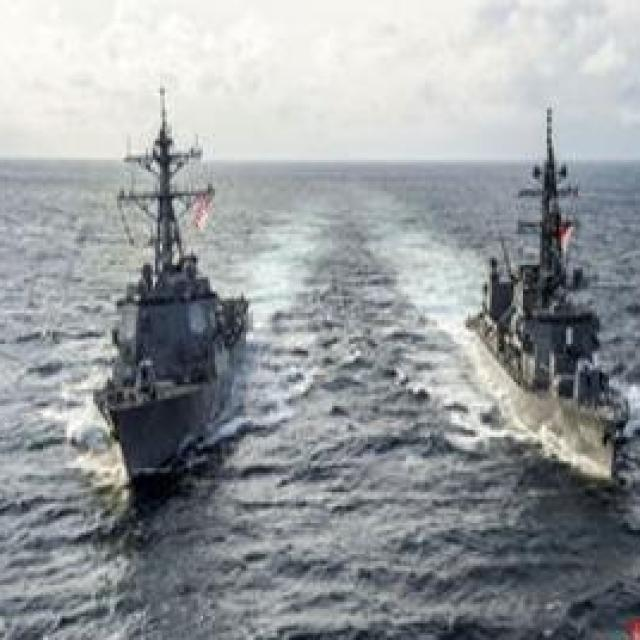navalvessels: (453, 102, 635, 491), (95, 92, 268, 488)
